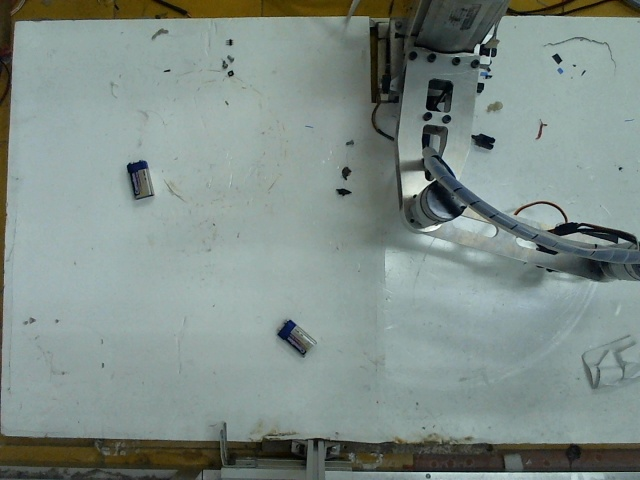battery: (275, 315, 315, 363), (119, 155, 158, 200)
